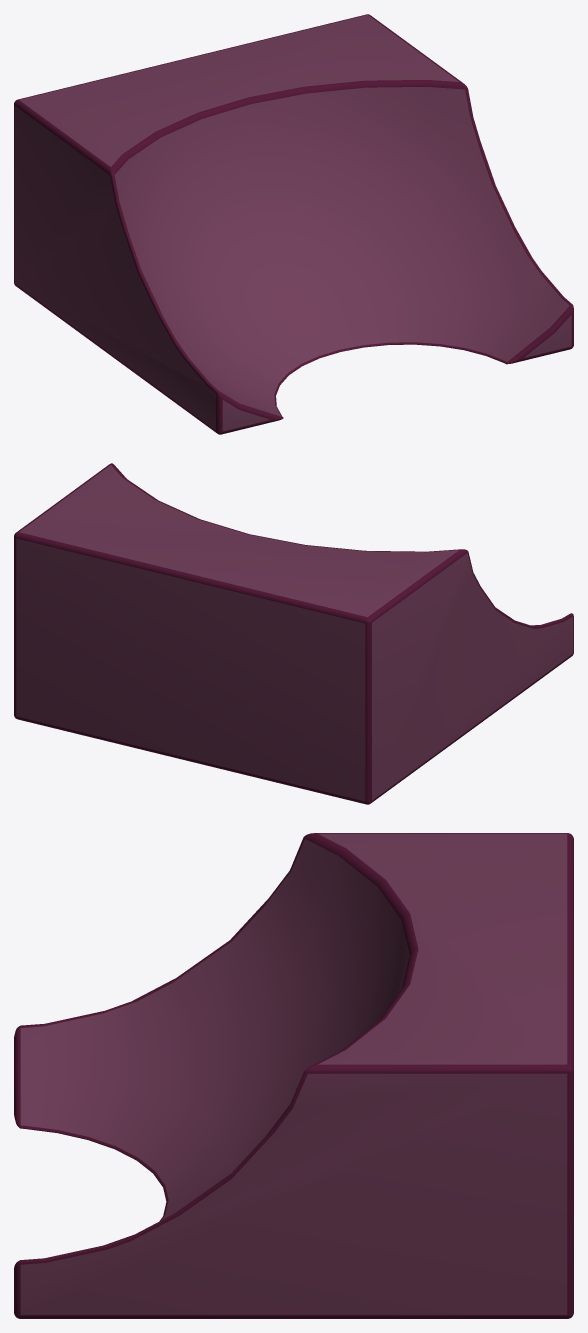
The model's file is sideloop.glb.
3 renders of one model, top to bottom at view 1: azimuth 30°, elevation 25°; view 2: azimuth 150°, elevation 25°; view 3: azimuth 270°, elevation 25°, orthographic. The views are drawn at different scales.
Parts seen in each view (by area): view 1: Cube; view 2: Cube; view 3: Cube.
Boxes of the visible parts, bbox=[...] form: Cube: bbox=[14, 14, 573, 434]; Cube: bbox=[14, 463, 573, 804]; Cube: bbox=[14, 833, 573, 1318].
Size of the model in its own units: 50 by 25 by 50.
